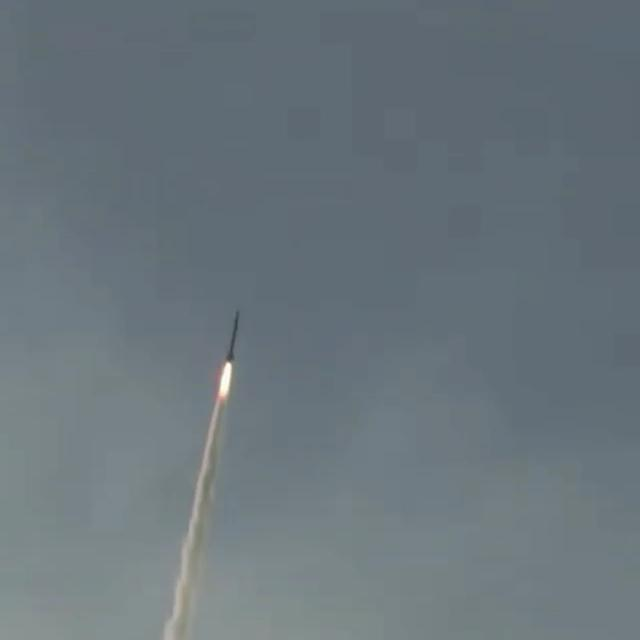smoke_trail_with_rocket: (161, 313, 241, 640)
